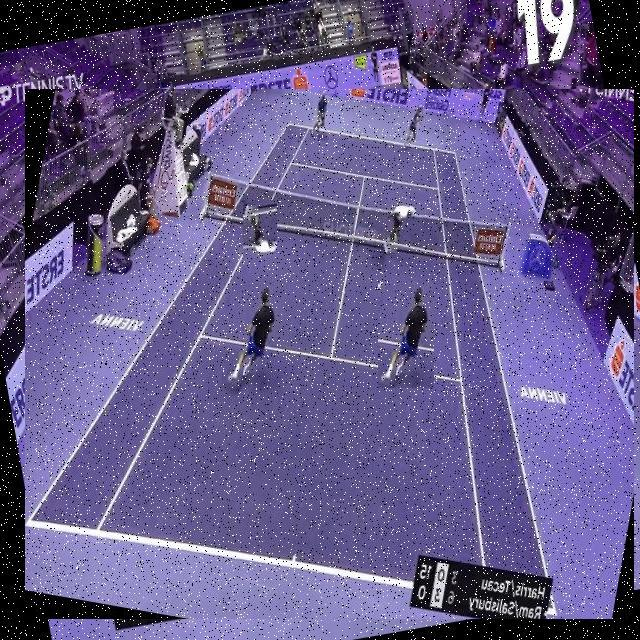court: (25, 89, 636, 619)
net: (148, 168, 460, 266)
player: (379, 282, 434, 388), (244, 200, 278, 258)
